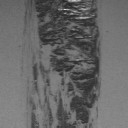slag inclusion: (23, 0, 101, 128), (29, 100, 40, 128)
